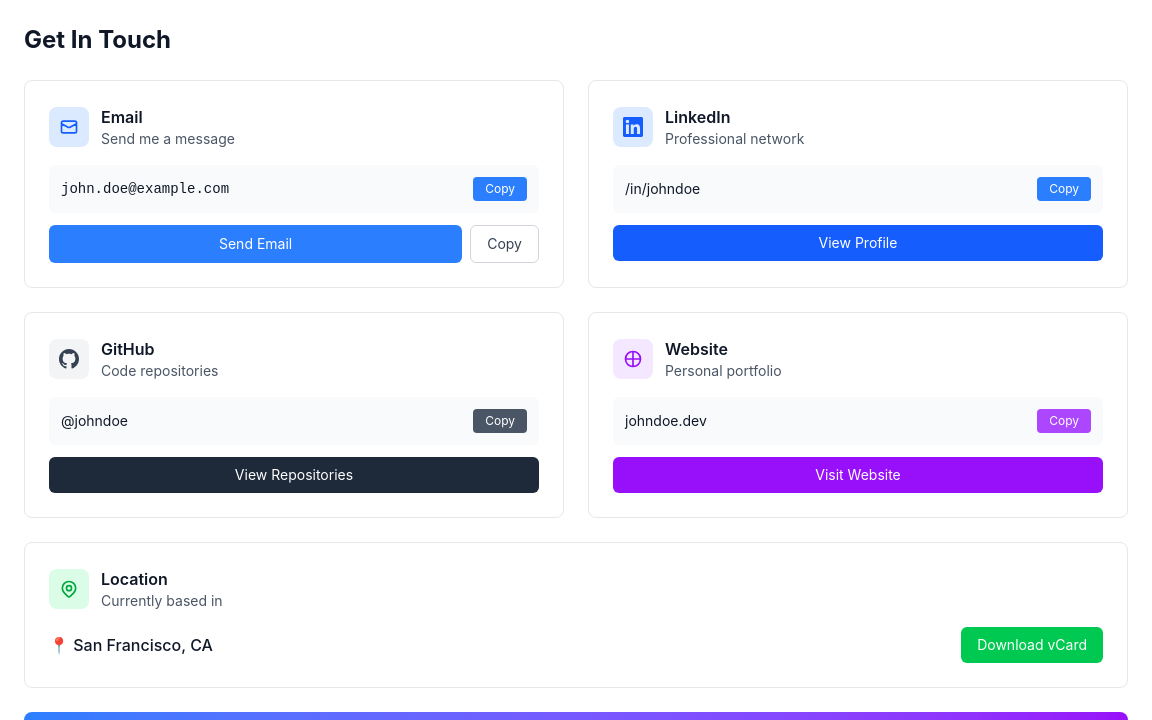
Test: ContactSection › should copy website URL to clipboard
The width and height of the screenshot is (1152, 720).
Click the button titled "Copy website URL" in the row of "johndoe.dev". click: (1064, 421)
box: x1=1037 y1=409 x2=1091 y2=433
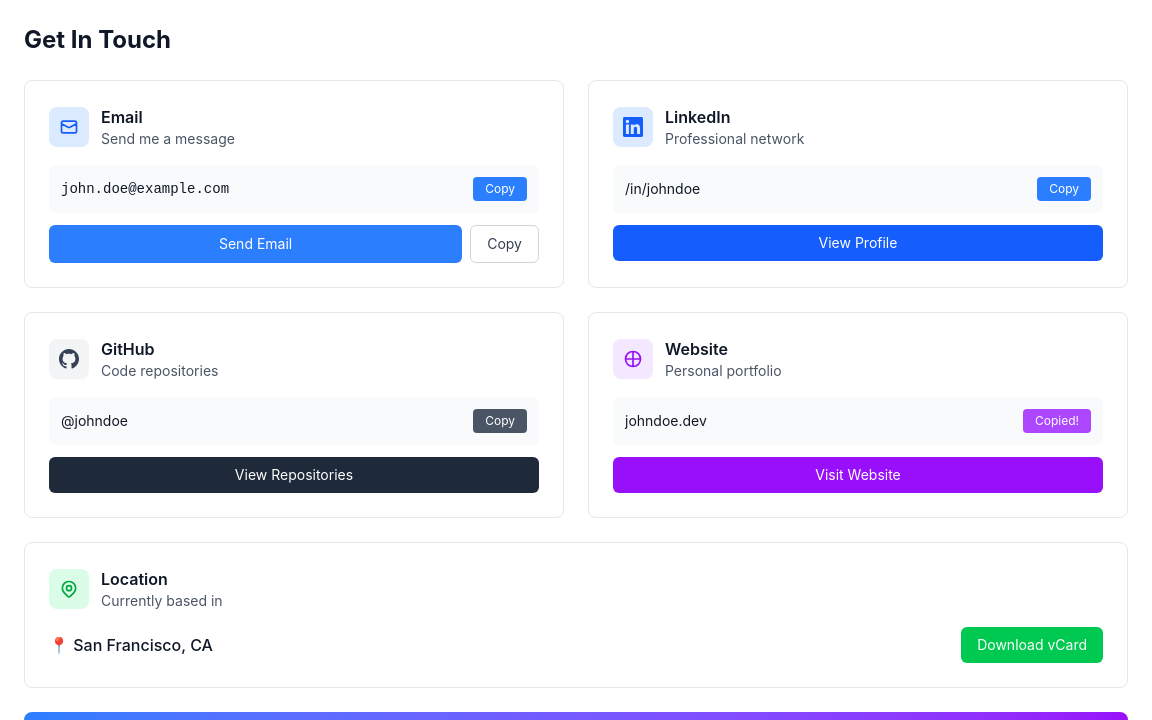
expect the button "Copied!" is shown: met, box x1=1023 y1=409 x2=1091 y2=433
